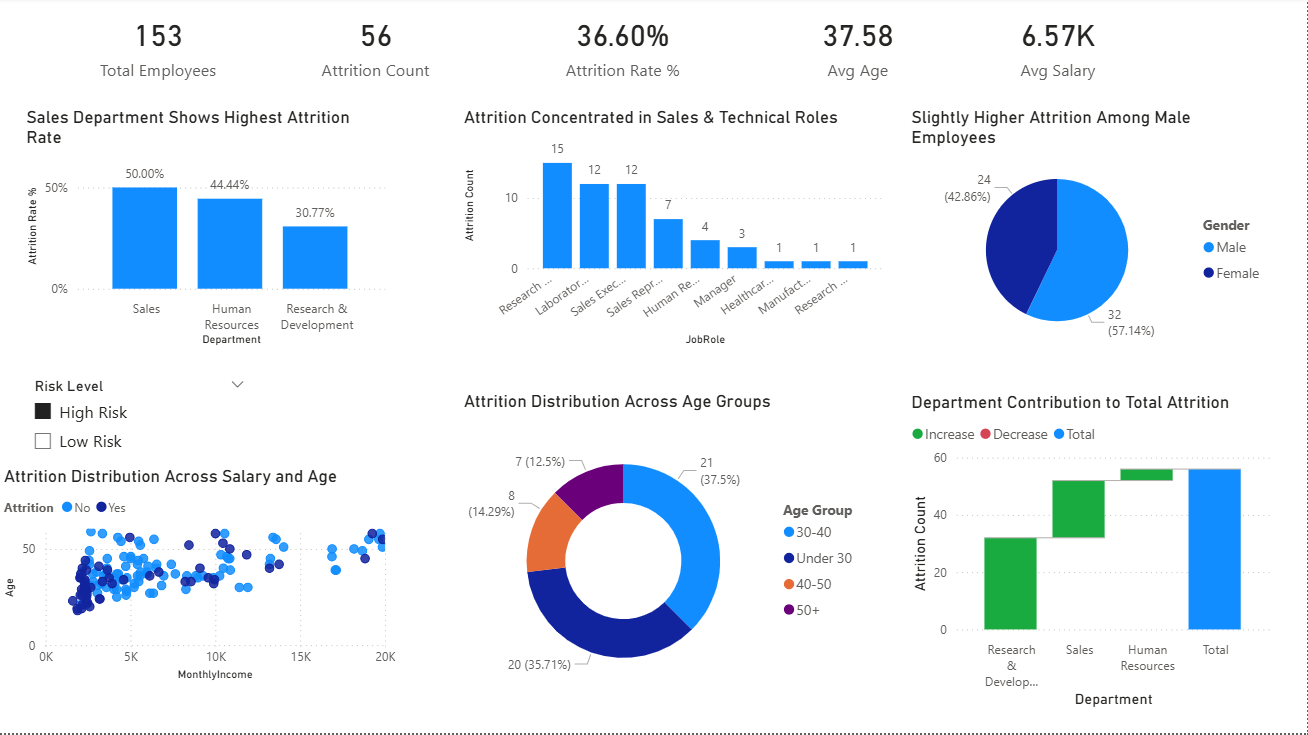

Layout of this report page (visuals, bound fields, positions):
{"tool":"powerbi","page":{"name":"Page 1","canvas":[1280,720],"ordinal":0},"visuals":[{"type":"card","fields":{"Values":["HR Dataset.Total Employees"]},"box":[43.9,0,223.7,93.3],"z":0},{"type":"card","fields":{"Values":["HR Dataset.Attrition Count"]},"box":[252.5,0,233.3,93.3],"z":1000},{"type":"card","fields":{"Values":["HR Dataset.Attrition Rate %"]},"box":[485.8,0,249.7,93.3],"z":2000},{"type":"card","fields":{"Values":["HR Dataset.Avg Age"]},"box":[719,0,242.9,93.3],"z":3000},{"type":"card","fields":{"Values":["HR Dataset.Avg Salary"]},"box":[926.2,0,220.9,93.3],"z":4000},{"type":"clusteredColumnChart","title":"Sales Department Shows Highest Attrition Rate","fields":{"Category":["HR Dataset.Department"],"Y":["HR Dataset.Attrition Rate %"]},"box":[22,107,360.9,238.8],"z":5000},{"type":"clusteredColumnChart","title":"Attrition Concentrated in Sales & Technical Roles","fields":{"Category":["HR Dataset.JobRole"],"Y":["HR Dataset.Attrition Count"]},"box":[450.1,107,419.9,238.8],"z":6000},{"type":"pieChart","title":"Slightly Higher Attrition Among Male Employees","fields":{"Category":["HR Dataset.Gender"],"Y":["HR Dataset.Attrition Count"]},"box":[887.8,107,360.9,238.8],"z":7000},{"type":"slicer","fields":{"Values":["HR Dataset.Risk Level"]},"box":[22,366.4,230.5,91.9],"z":8000},{"type":"scatterChart","title":"Attrition Distribution Across Salary and Age","fields":{"X":["HR Dataset.MonthlyIncome"],"Series":["HR Dataset.Attrition"],"Y":["HR Dataset.Age"]},"box":[0,458.3,392.9,215.5],"z":9000},{"type":"donutChart","title":"Attrition Distribution Across Age Groups","fields":{"Category":["HR Dataset.Age Group"],"Y":["HR Dataset.Attrition Count"]},"box":[450.1,385.6,408.9,312.9],"z":10000},{"type":"waterfallChart","title":"Department Contribution to Total Attrition","fields":{"Category":["HR Dataset.Department"],"Y":["HR Dataset.Attrition Count"]},"box":[888,386,361,313],"z":10001}]}

Visuals, with their boxes in screenshot pixels (x1, y1, x2, y2), scaled from the page's 1280x720 canvas onto the 1308x735 screenshot:
card - HR Dataset.Total Employees: left=45, top=0, right=273, bottom=95
card - HR Dataset.Attrition Count: left=258, top=0, right=496, bottom=95
card - HR Dataset.Attrition Rate %: left=496, top=0, right=752, bottom=95
card - HR Dataset.Avg Age: left=735, top=0, right=983, bottom=95
card - HR Dataset.Avg Salary: left=946, top=0, right=1172, bottom=95
"Sales Department Shows Highest Attrition Rate" clusteredColumnChart: left=22, top=109, right=391, bottom=353
"Attrition Concentrated in Sales & Technical Roles" clusteredColumnChart: left=460, top=109, right=889, bottom=353
"Slightly Higher Attrition Among Male Employees" pieChart: left=907, top=109, right=1276, bottom=353
slicer - HR Dataset.Risk Level: left=22, top=374, right=258, bottom=468
"Attrition Distribution Across Salary and Age" scatterChart: left=0, top=468, right=401, bottom=688
"Attrition Distribution Across Age Groups" donutChart: left=460, top=394, right=878, bottom=713
"Department Contribution to Total Attrition" waterfallChart: left=907, top=394, right=1276, bottom=714
